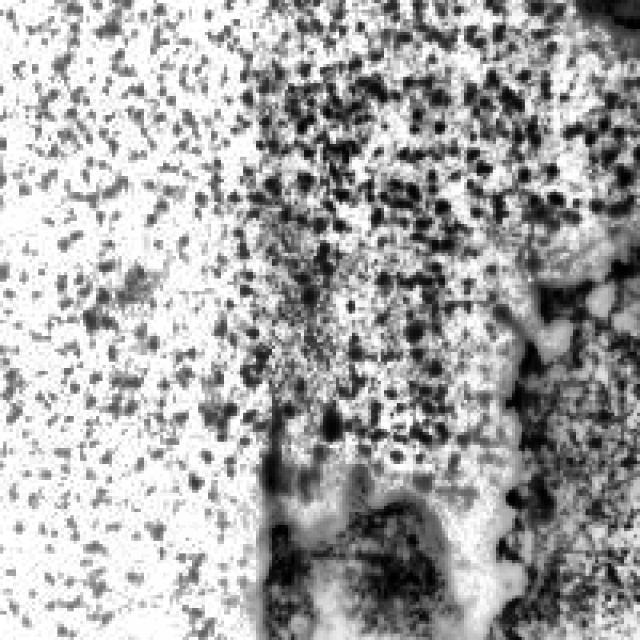Rolled_in_Scale: (0, 0, 518, 477)
Scratches: (474, 236, 636, 634), (237, 438, 467, 637)
